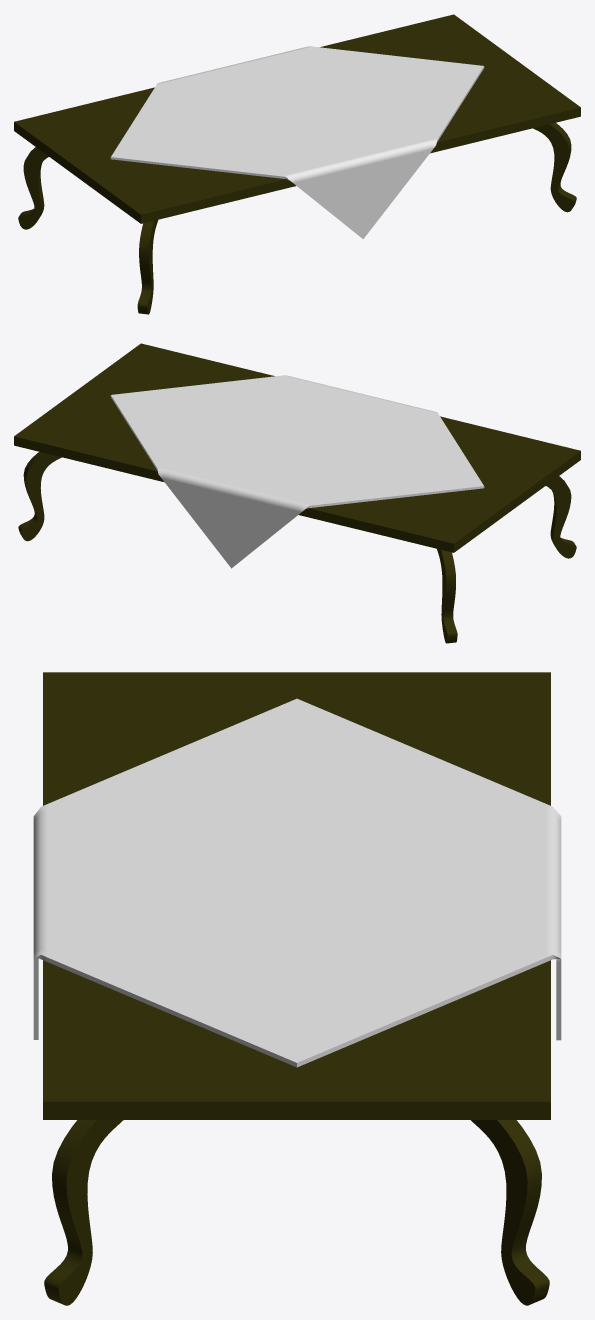
File: mesacomedorr.FBX
3 renders of one model, top to bottom at view 1: azimuth 30°, elevation 25°; view 2: azimuth 150°, elevation 25°; view 3: azimuth 270°, elevation 25°, orthographic. The views are drawn at different scales.
Parts seen in each view (by area): view 1: Box002, Box001, Loft003, Loft001, Loft002; view 2: Box002, Box001, Loft004, Loft002, Loft001; view 3: Box002, Box001, Loft003, Loft004.
Boxes of the visible parts, left/top/right/bottom form: Box002: left=110, top=46, right=484, bottom=238; Box001: left=14, top=14, right=580, bottom=223; Loft003: left=533, top=122, right=576, bottom=212; Loft001: left=18, top=147, right=48, bottom=229; Loft002: left=137, top=220, right=158, bottom=314; Box002: left=110, top=375, right=484, bottom=568; Box001: left=14, top=343, right=580, bottom=552; Loft004: left=18, top=452, right=61, bottom=541; Loft002: left=546, top=476, right=576, bottom=558; Loft001: left=437, top=549, right=457, bottom=643; Box002: left=33, top=698, right=561, bottom=1067; Box001: left=43, top=672, right=550, bottom=1119; Loft003: left=44, top=1120, right=123, bottom=1305; Loft004: left=471, top=1120, right=549, bottom=1305.
Size of the model in its own units: 1000 by 233 by 519.
